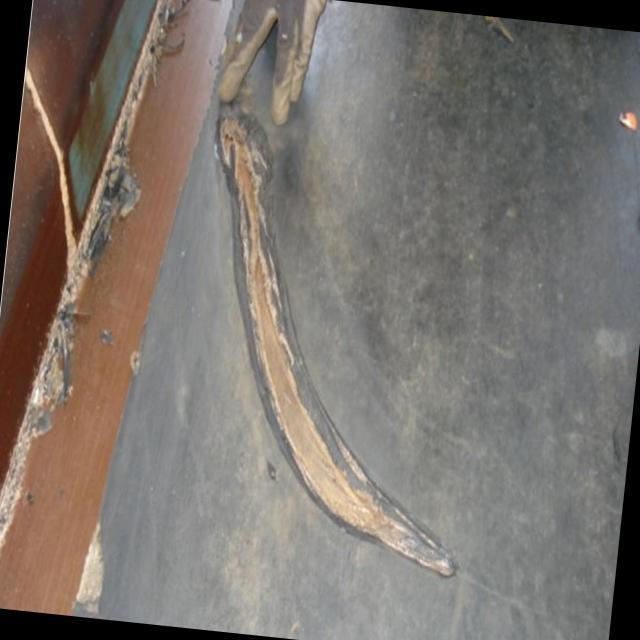Wear: (212, 100, 463, 582)
